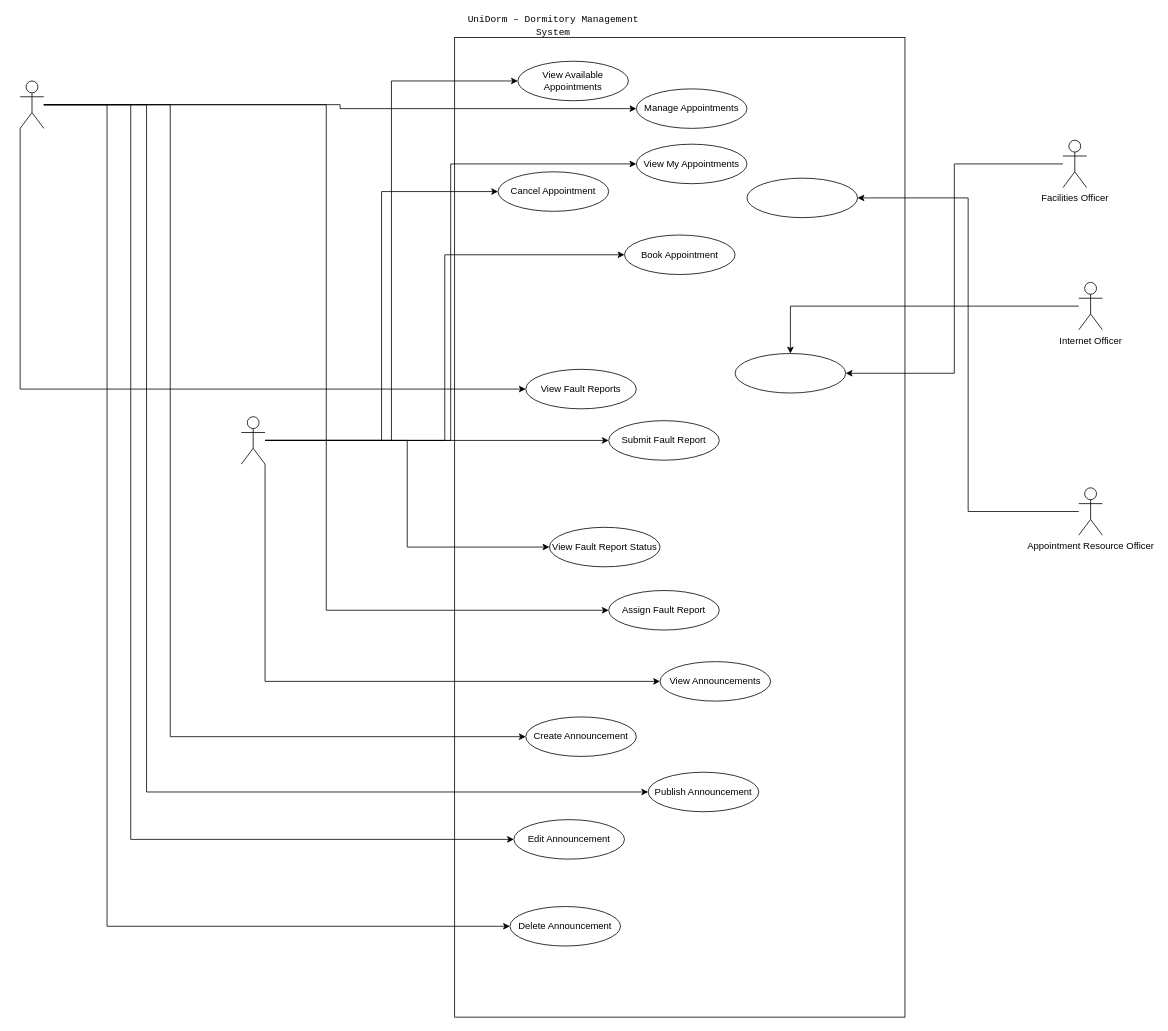
The diagram is 1168 pixels wide and 1031 high, and some of its shapes have lost their labels. The shapes that lost their labels are listed below. From the top down, each one's box as (x1, y1, x2, y2) in pixels, then its label:
(19, 80, 44, 128): Manager
(746, 177, 858, 218): Manage Resource Availability
(734, 353, 846, 393): Handle Fault Report
(241, 416, 265, 464): Student
